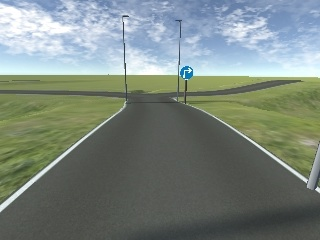turn_right_sign: (178, 63, 194, 80)
